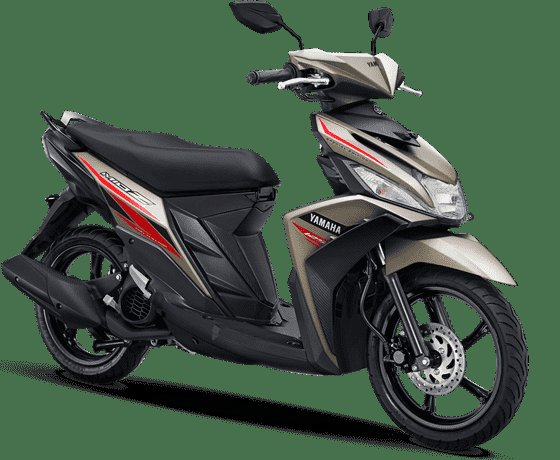motor: (17, 33, 549, 459)
